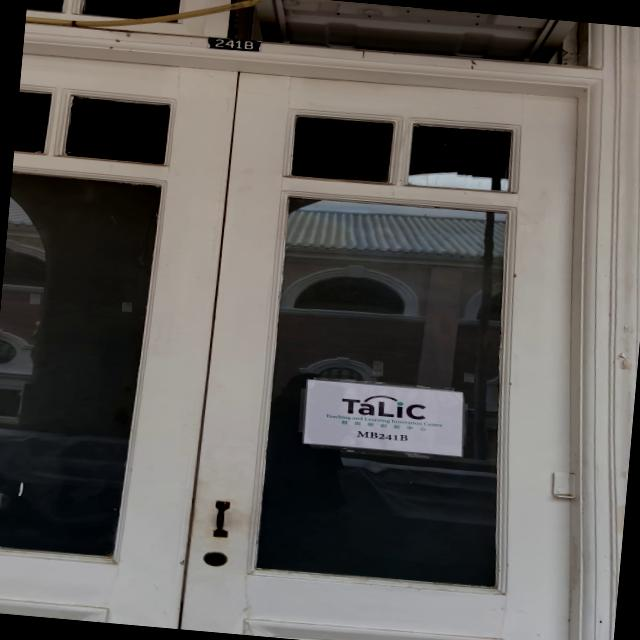room241b: (202, 34, 266, 55)
